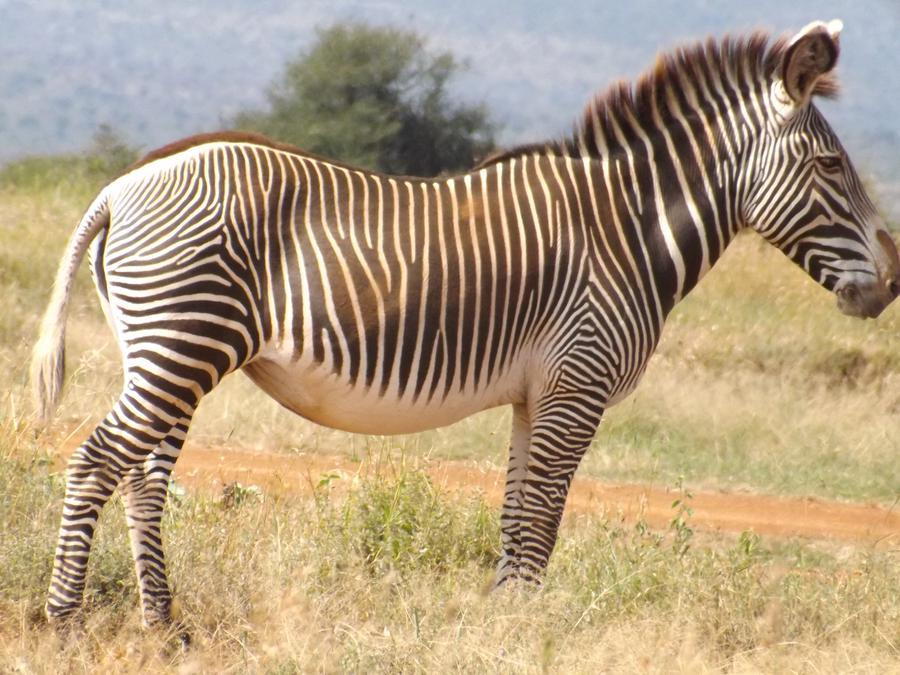zebra_grevys: (90, 111, 623, 420)
